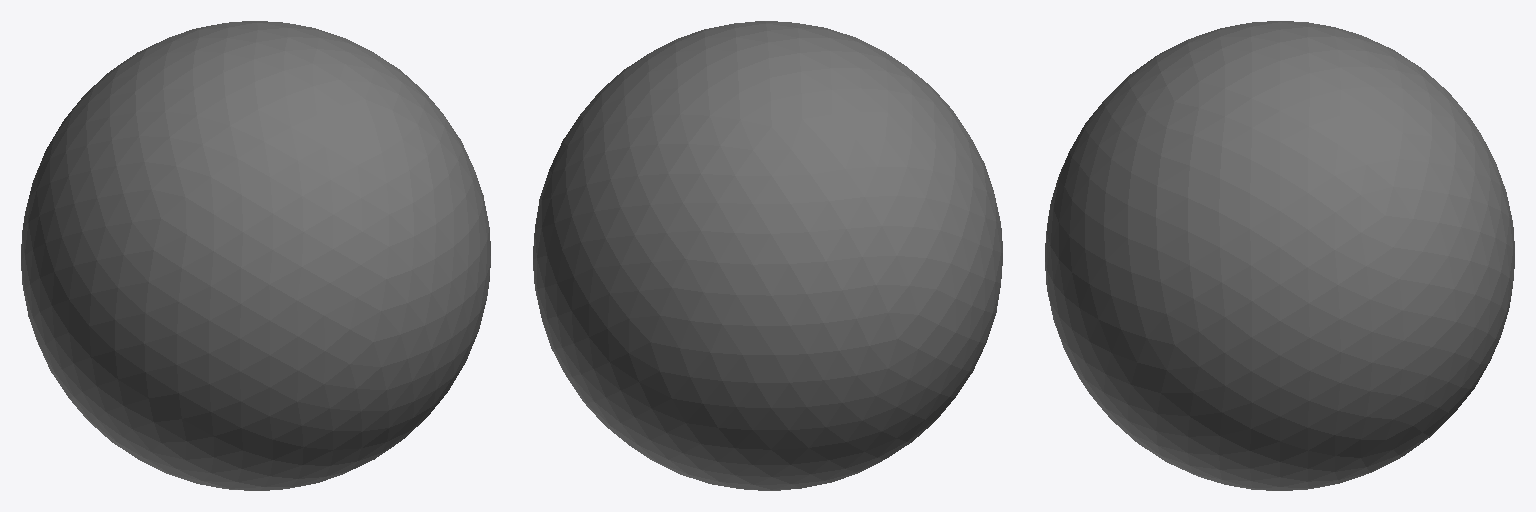
The model's file is geospherePathTracing.obj.
The picture shows the model from 3 angles: view 1: azimuth 30°, elevation 25°; view 2: azimuth 150°, elevation 25°; view 3: azimuth 270°, elevation 25°; orthographic projection.
Visible parts, largest first — view 1: GeoSphere001; view 2: GeoSphere001; view 3: GeoSphere001.
Part boxes in pixels (x1,y1,x2,y2): GeoSphere001: (21, 21, 490, 490); GeoSphere001: (533, 21, 1002, 490); GeoSphere001: (1045, 21, 1514, 490).
Size of the model in its own units: 2 by 2 by 2.